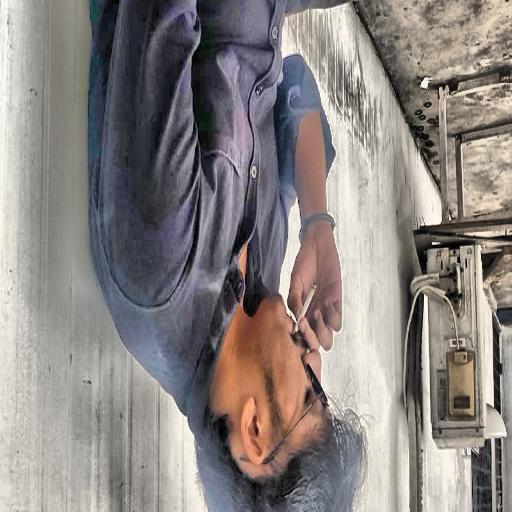Merokok: (298, 283, 316, 322)
Rokok: (88, 0, 365, 512)
